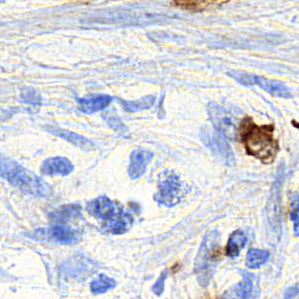Lymphocyte: (238, 116, 281, 164)
